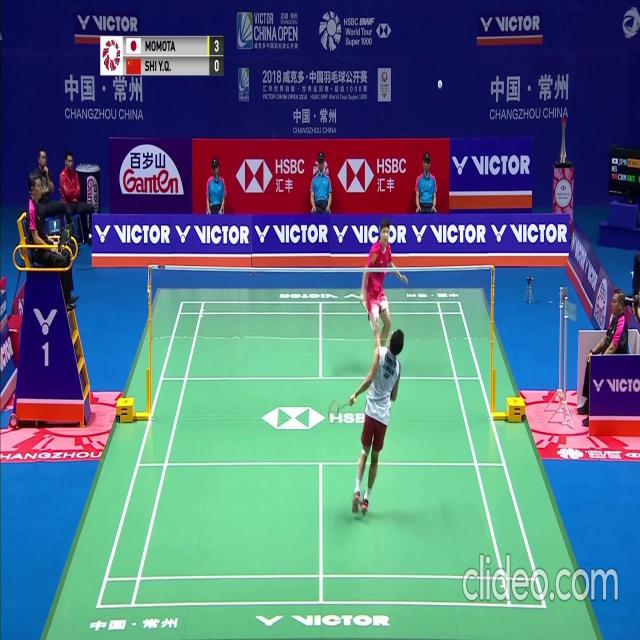Shuttlecock: (438, 80, 442, 87)
